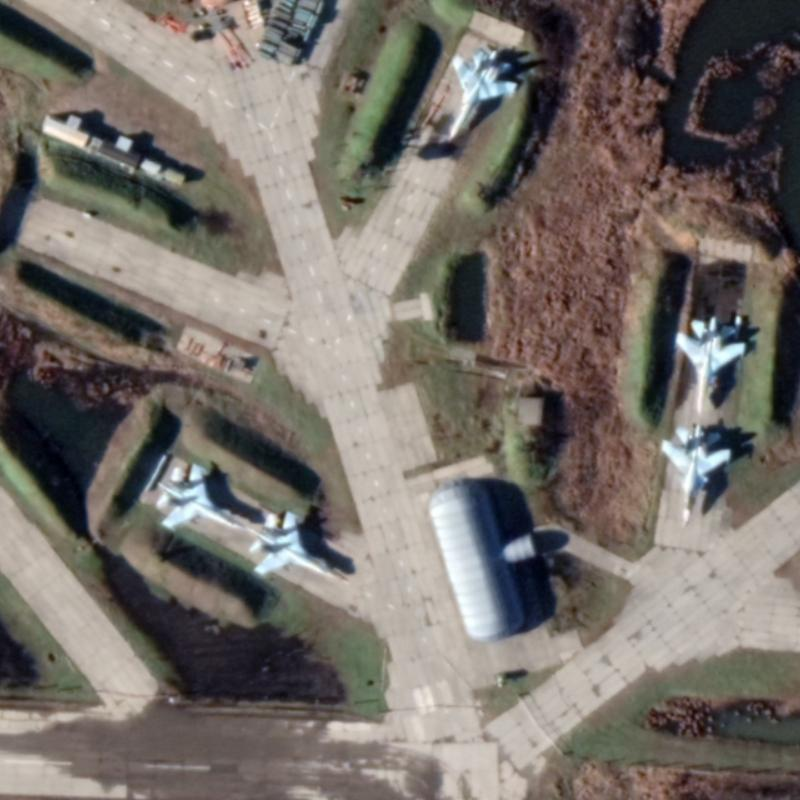A1: (671, 313, 748, 415), (244, 507, 345, 582), (444, 47, 517, 144), (152, 458, 244, 532)
A19: (658, 421, 732, 528)
